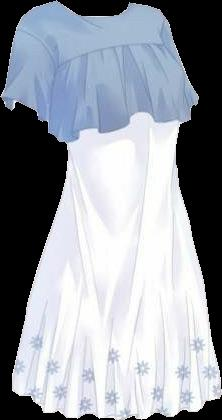Bodice: (16, 1, 198, 164)
Hemline: (8, 388, 221, 419)
Neckline: (52, 41, 166, 70), (55, 0, 133, 19)
Skirt: (12, 165, 221, 419)
Sleeve: (1, 28, 52, 121)
Sleeveline: (16, 24, 56, 99)
Waistline: (52, 109, 190, 144)
